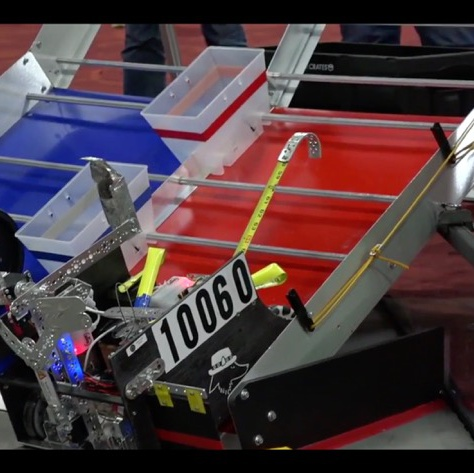robot: (0, 129, 323, 448)
